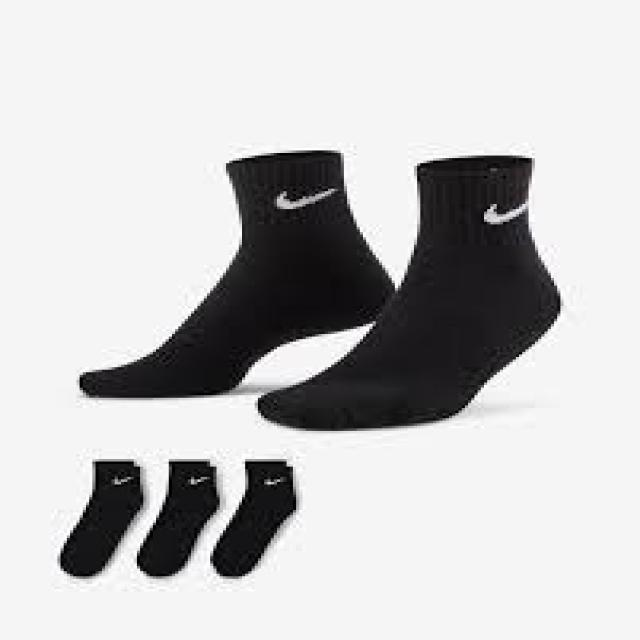sock: (255, 153, 560, 431), (76, 148, 395, 398), (207, 456, 296, 576), (133, 459, 220, 576), (58, 459, 144, 576)
